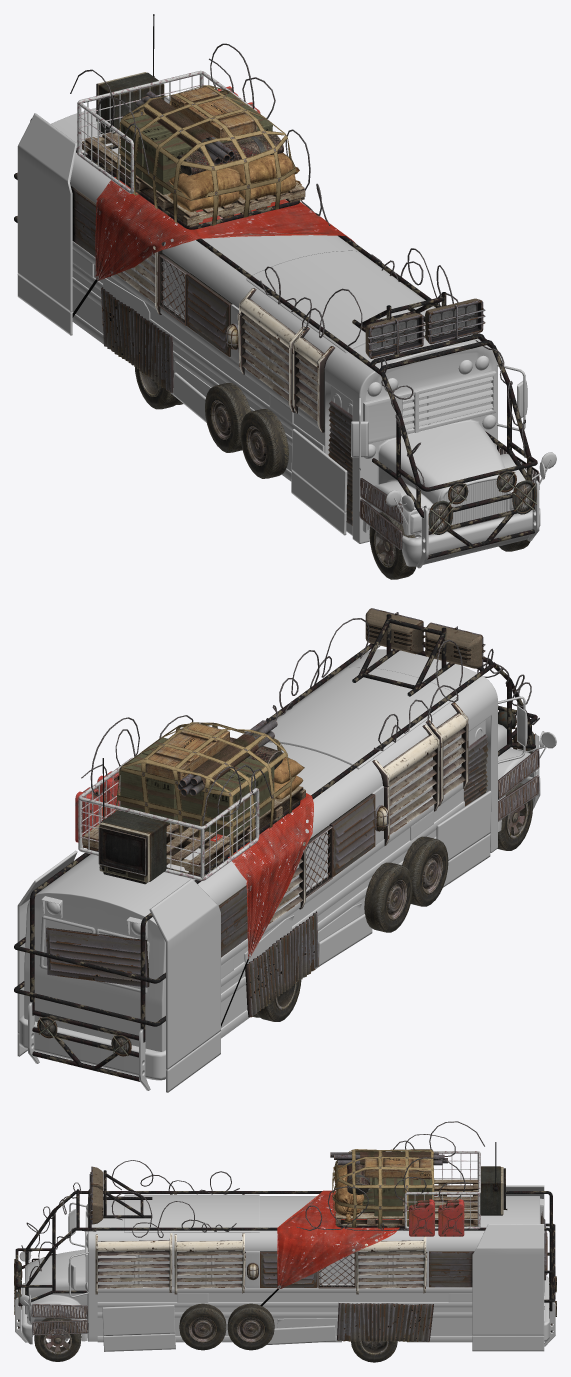
Rendered from prop_battleBus.fbx.
3 renders of one model, top to bottom at view 1: azimuth 30°, elevation 25°; view 2: azimuth 150°, elevation 25°; view 3: azimuth 270°, elevation 25°, orthographic. The views are drawn at different scales.
Visible parts, largest first — view 1: prop_battleBus; view 2: prop_battleBus; view 3: prop_battleBus.
Boxes of the visible parts, bbox=[...] form: prop_battleBus: bbox=[14, 14, 556, 579]; prop_battleBus: bbox=[14, 608, 556, 1092]; prop_battleBus: bbox=[14, 1121, 556, 1362].
Size of the model in its own units: 338 by 555 by 1320.
